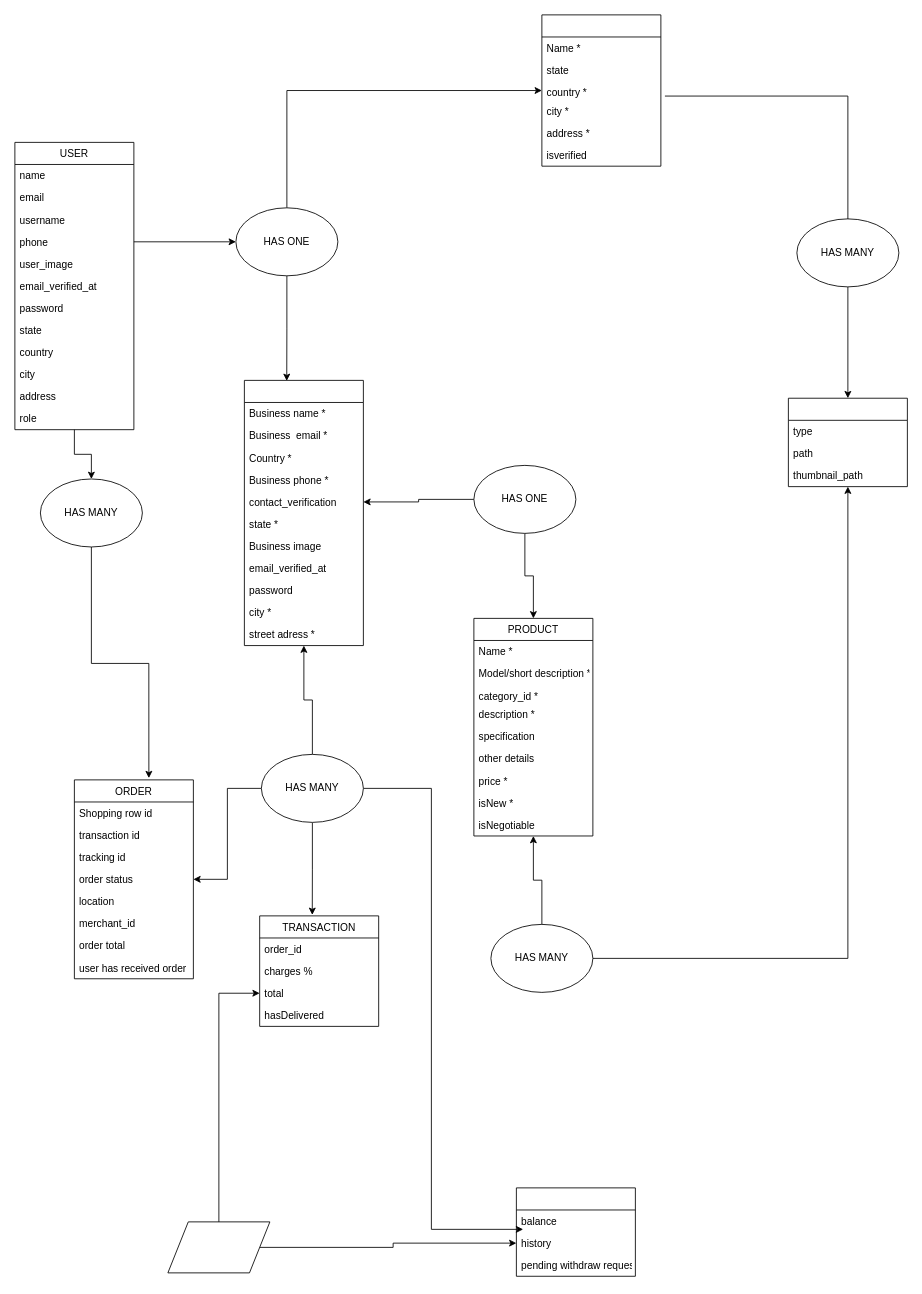
This 922x1294 diagram has some shape labels left out. The box of each missing label's shape, as (x1, y1, x2, y2) in pixels:
HR: (541, 14, 661, 166)
MEDIA: (788, 397, 907, 487)
MERCHANT: (244, 380, 363, 646)
on successful order, increase balance: (167, 1221, 270, 1273)
WALLET: (516, 1187, 635, 1276)
